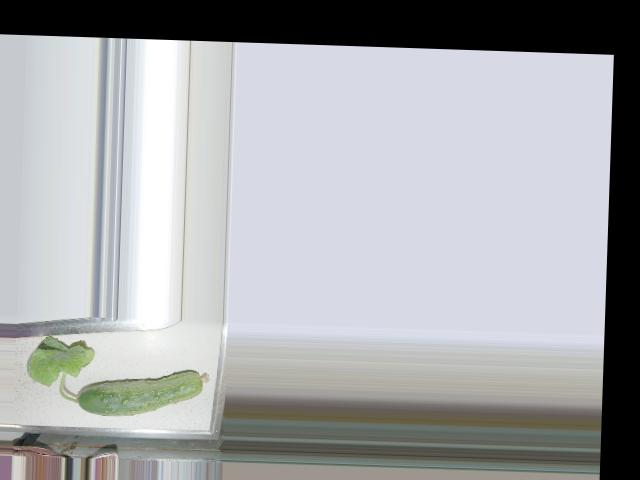cucumber: (75, 366, 210, 419)
